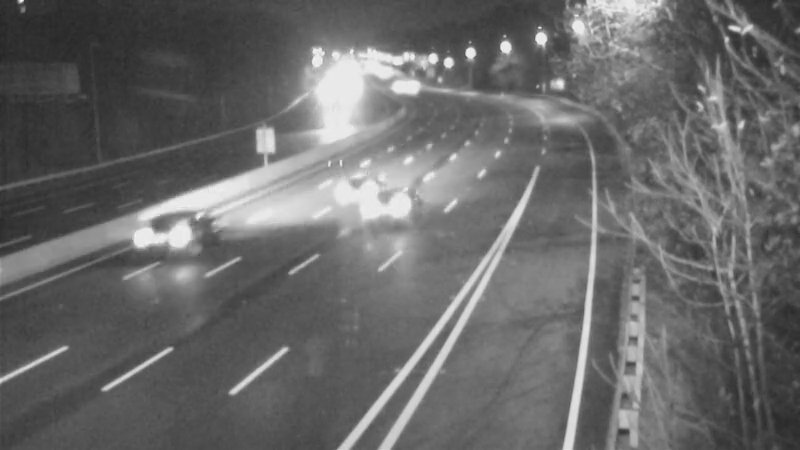vehicle: (337, 166, 417, 246), (314, 144, 394, 224), (115, 195, 195, 275), (304, 109, 354, 159)
